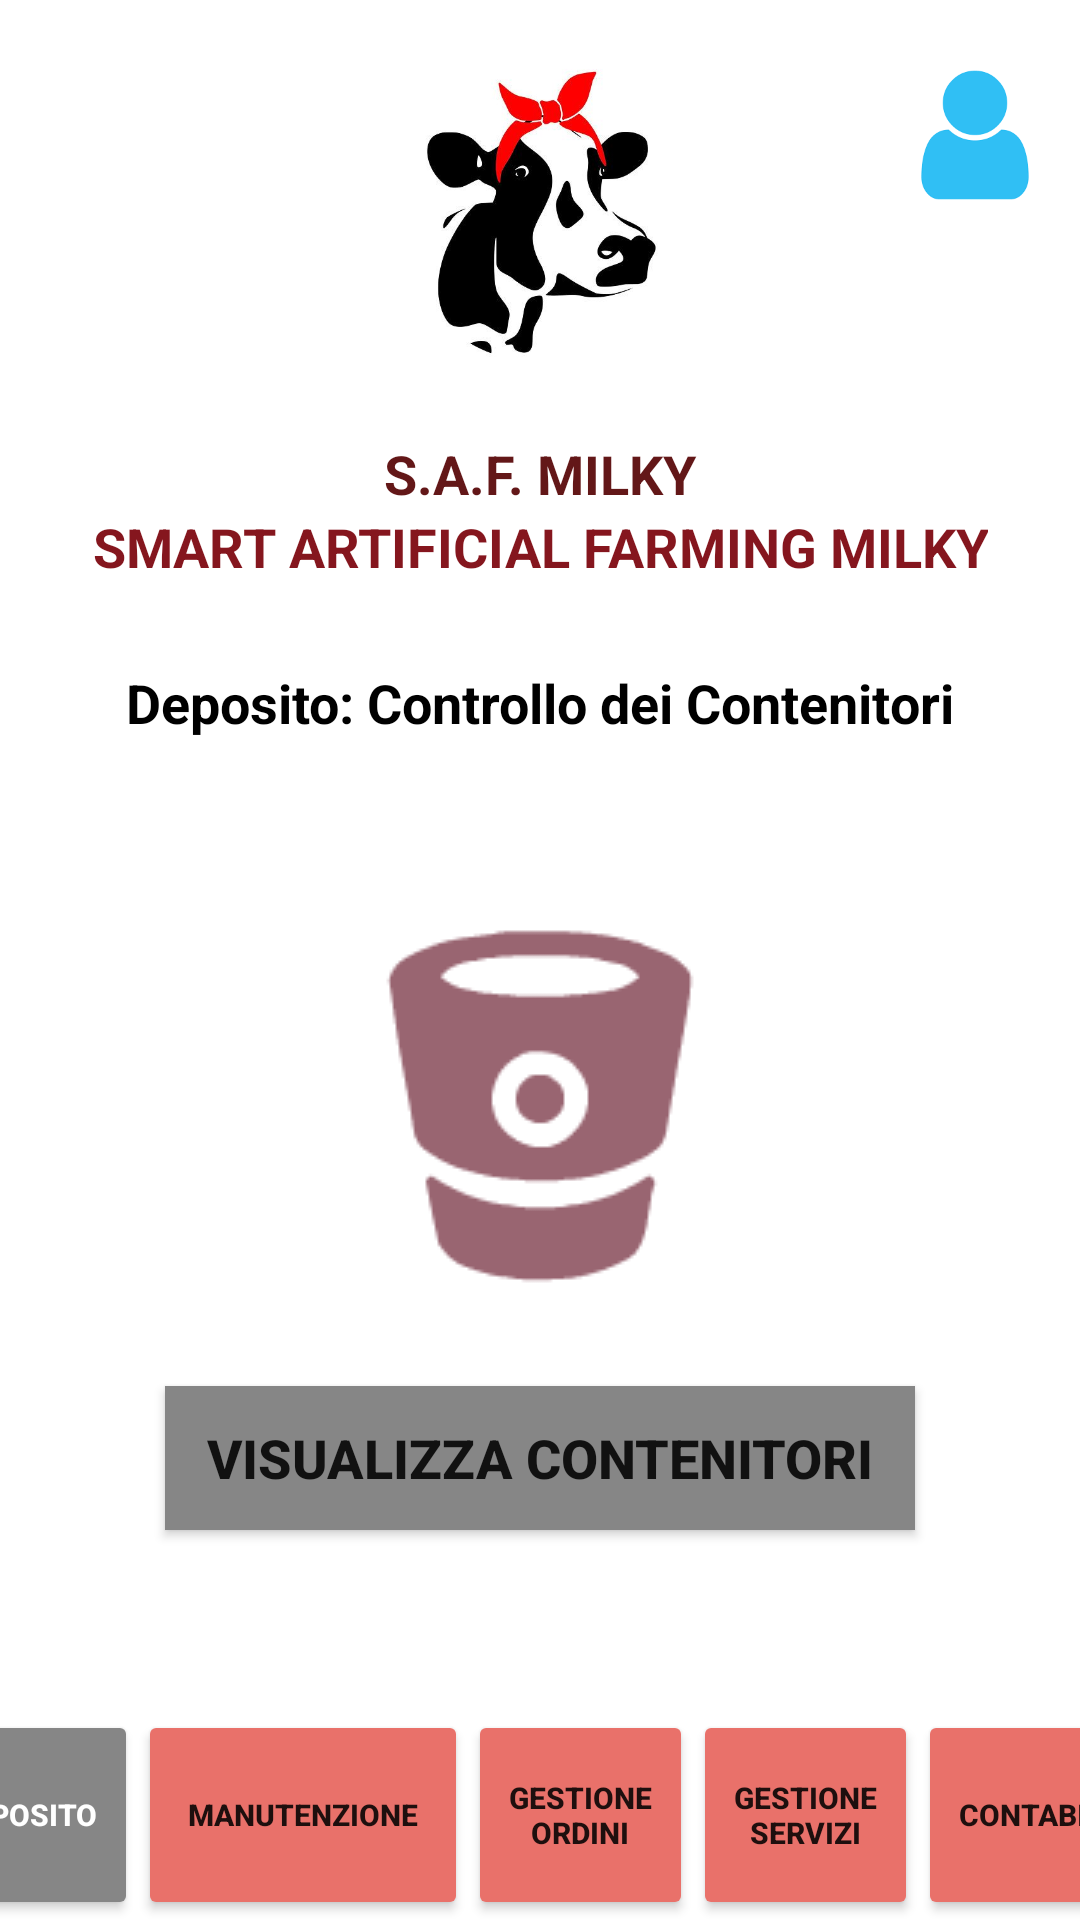

Screen size 1080x1920. Icon name, then its box in pixels as (x1, y1, x2, y2):
user: (921, 70, 1029, 200)
